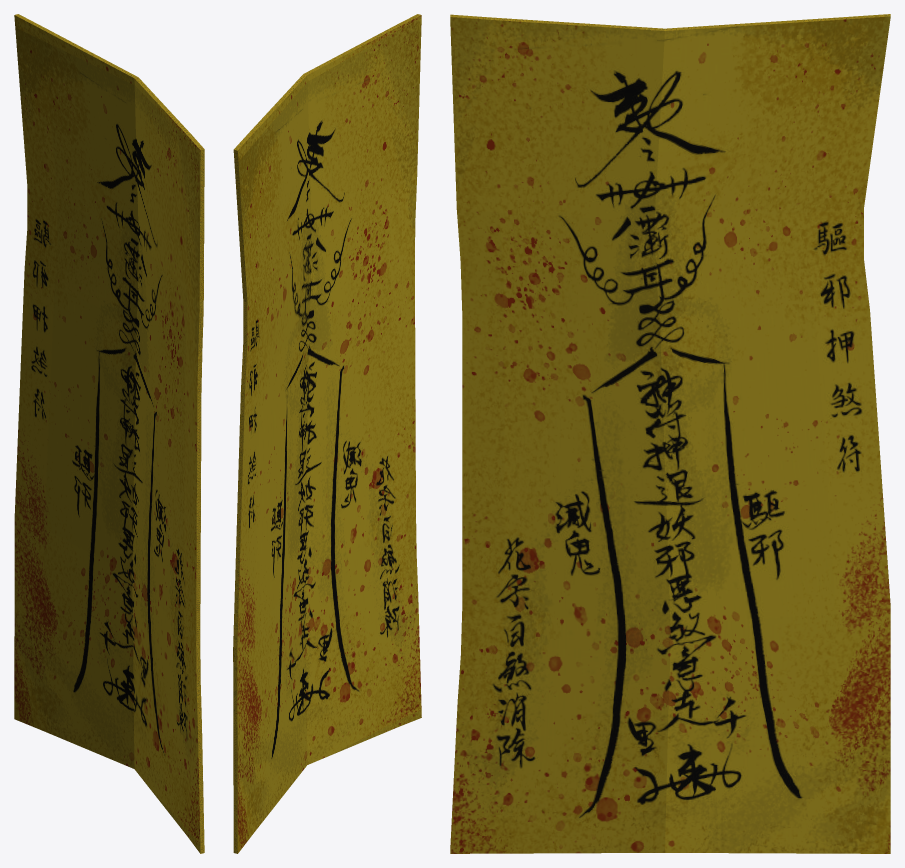
Rendered from yellowpaper.fbx.
3 views of the same model, side by side, from view 1: azimuth 30°, elevation 25°; view 2: azimuth 150°, elevation 25°; view 3: azimuth 270°, elevation 25° (orthographic). The views are drawn at different scales.
Visible parts, largest first — view 1: Cube; view 2: Cube; view 3: Cube.
Part boxes in pixels (x1,y1,x2,y2): Cube: [14, 14, 204, 853]; Cube: [233, 14, 421, 853]; Cube: [450, 14, 890, 853].
Size of the model in its own units: 16.47 by 377 by 180.
Materials: 1 (1 with a texture image).
